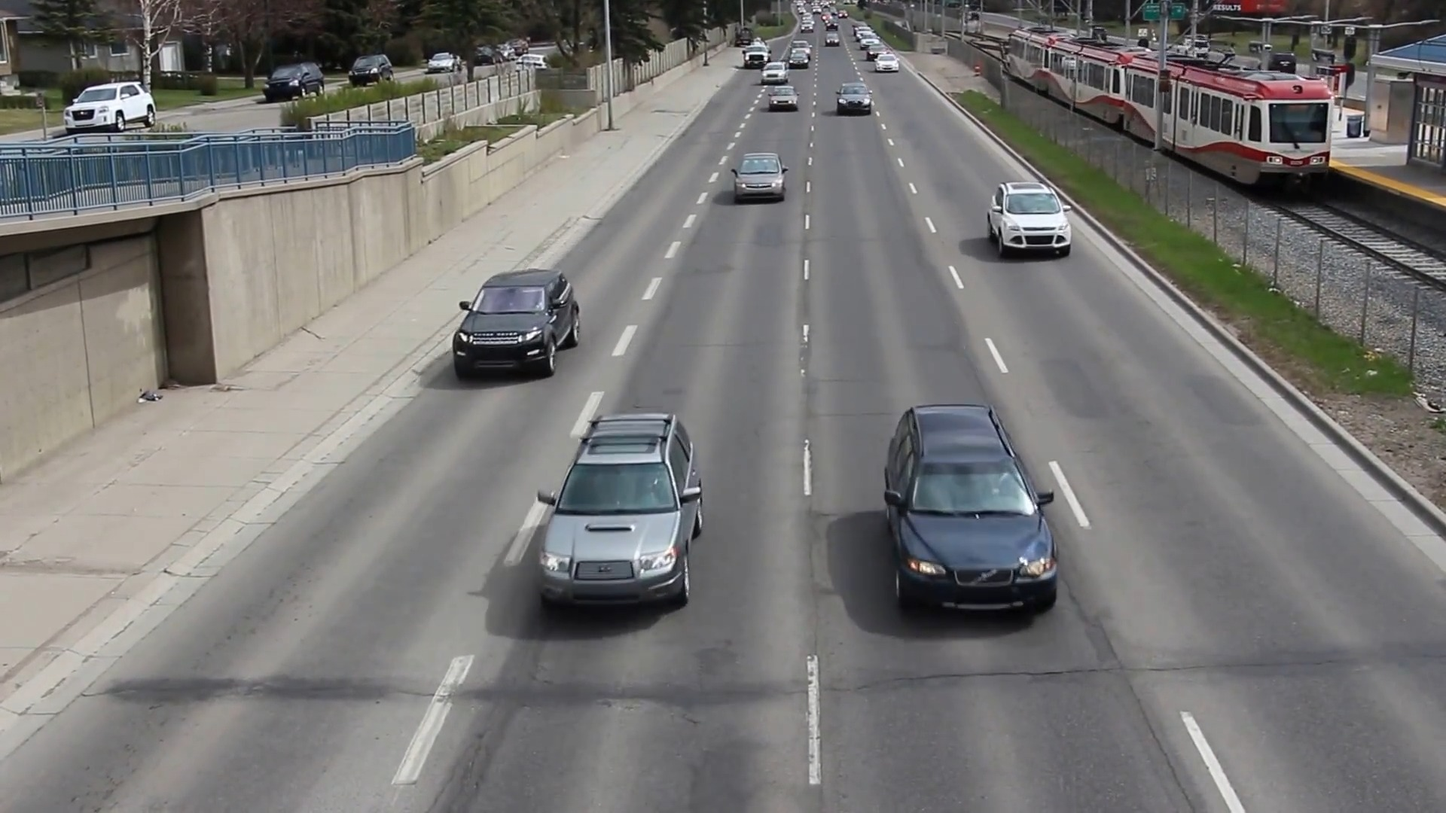car: (876, 396, 1067, 625), (531, 403, 701, 622), (454, 266, 576, 377), (987, 183, 1078, 262), (729, 151, 786, 199)
